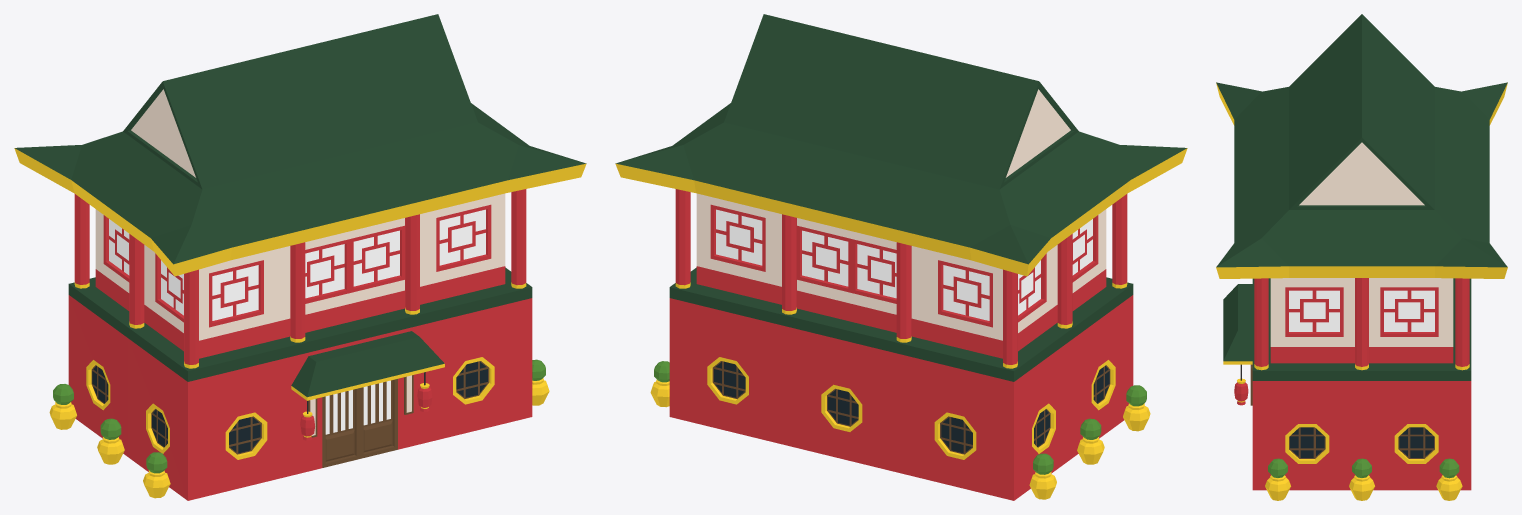
File: building-antique-china.glb
3 renders of one model, left to right at view 1: azimuth 30°, elevation 25°; view 2: azimuth 150°, elevation 25°; view 3: azimuth 270°, elevation 25°, orthographic. The views are drawn at different scales.
Parts seen in each view (by area): view 1: building-antique-china; view 2: building-antique-china; view 3: building-antique-china.
Boxes of the visible parts, bbox=[...] form: building-antique-china: bbox=[14, 14, 586, 500]; building-antique-china: bbox=[615, 14, 1187, 500]; building-antique-china: bbox=[1216, 14, 1507, 500].
Size of the model in its own units: 12 by 10.2 by 8.
Materials: 1 (1 with a texture image).
